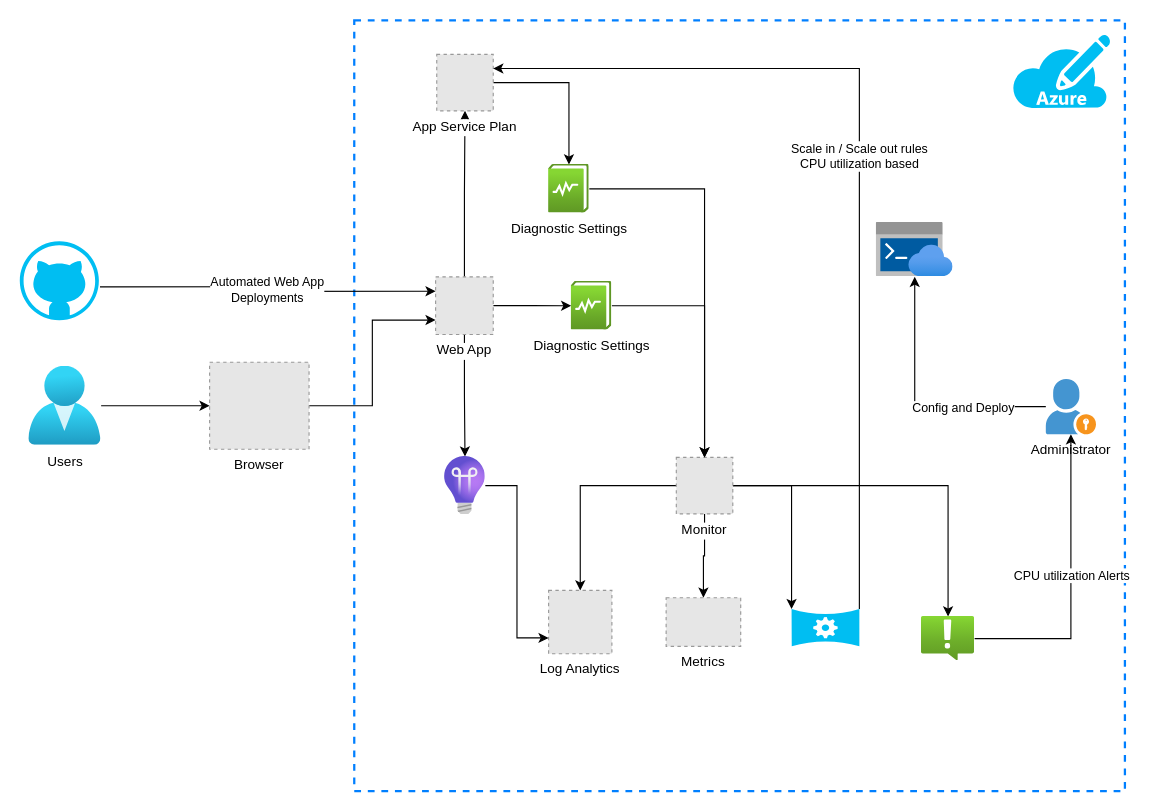
Some shapes in this 1149 by 811 pixel diagram are drawn without their labels. Grey dashed boxes stand in for pictures. The box of each missing label's shape, as (x1, y1, x2, y2) in pixels:
Alerts: (921, 616, 974, 660)
App Insights: (444, 456, 485, 514)
Autoscaling: (791, 609, 859, 646)
Cloud Shell: (876, 222, 953, 276)
GitHub Repo: (19, 241, 98, 320)
